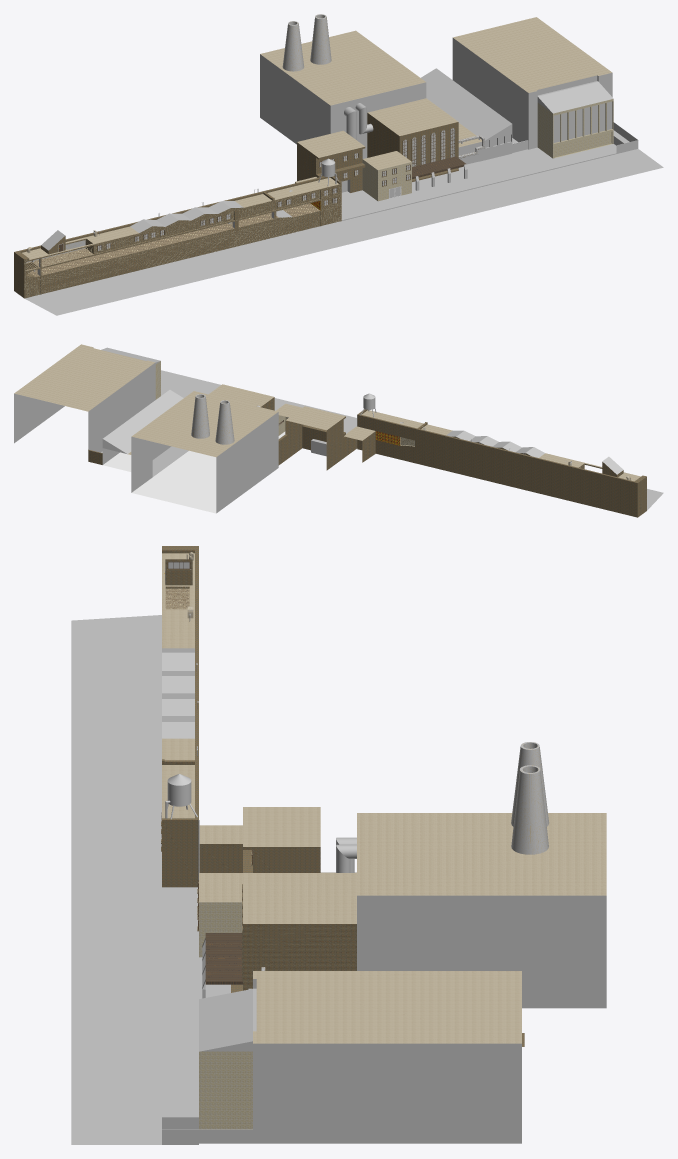
File: intro_casino01.dae
3 renders of one model, top to bottom at view 1: azimuth 30°, elevation 25°; view 2: azimuth 150°, elevation 25°; view 3: azimuth 270°, elevation 25°, orthographic. The views are drawn at different scales.
Parts seen in each view (by area): view 1: SketchUp (×29); view 2: SketchUp (×20); view 3: SketchUp (×21).
Boxes of the visible parts, x1,y1,x2,y2 form: SketchUp (×29): (14, 14, 663, 315); SketchUp (×20): (14, 344, 663, 517); SketchUp (×21): (71, 546, 606, 1144).
Size of the model in its own units: 8740 by 3733 by 1470.
